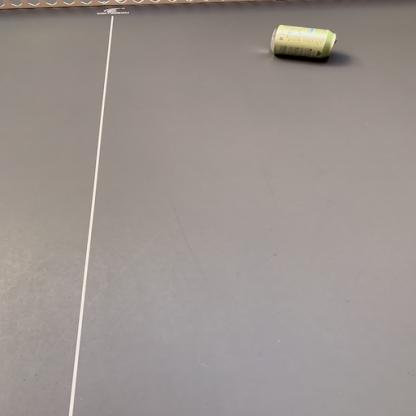trash: (267, 24, 339, 63)
